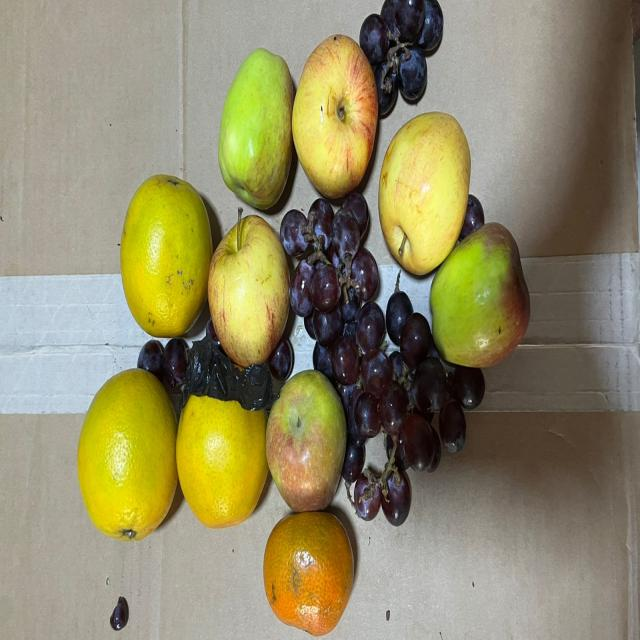bolsa_negra: (184, 329, 274, 414)
